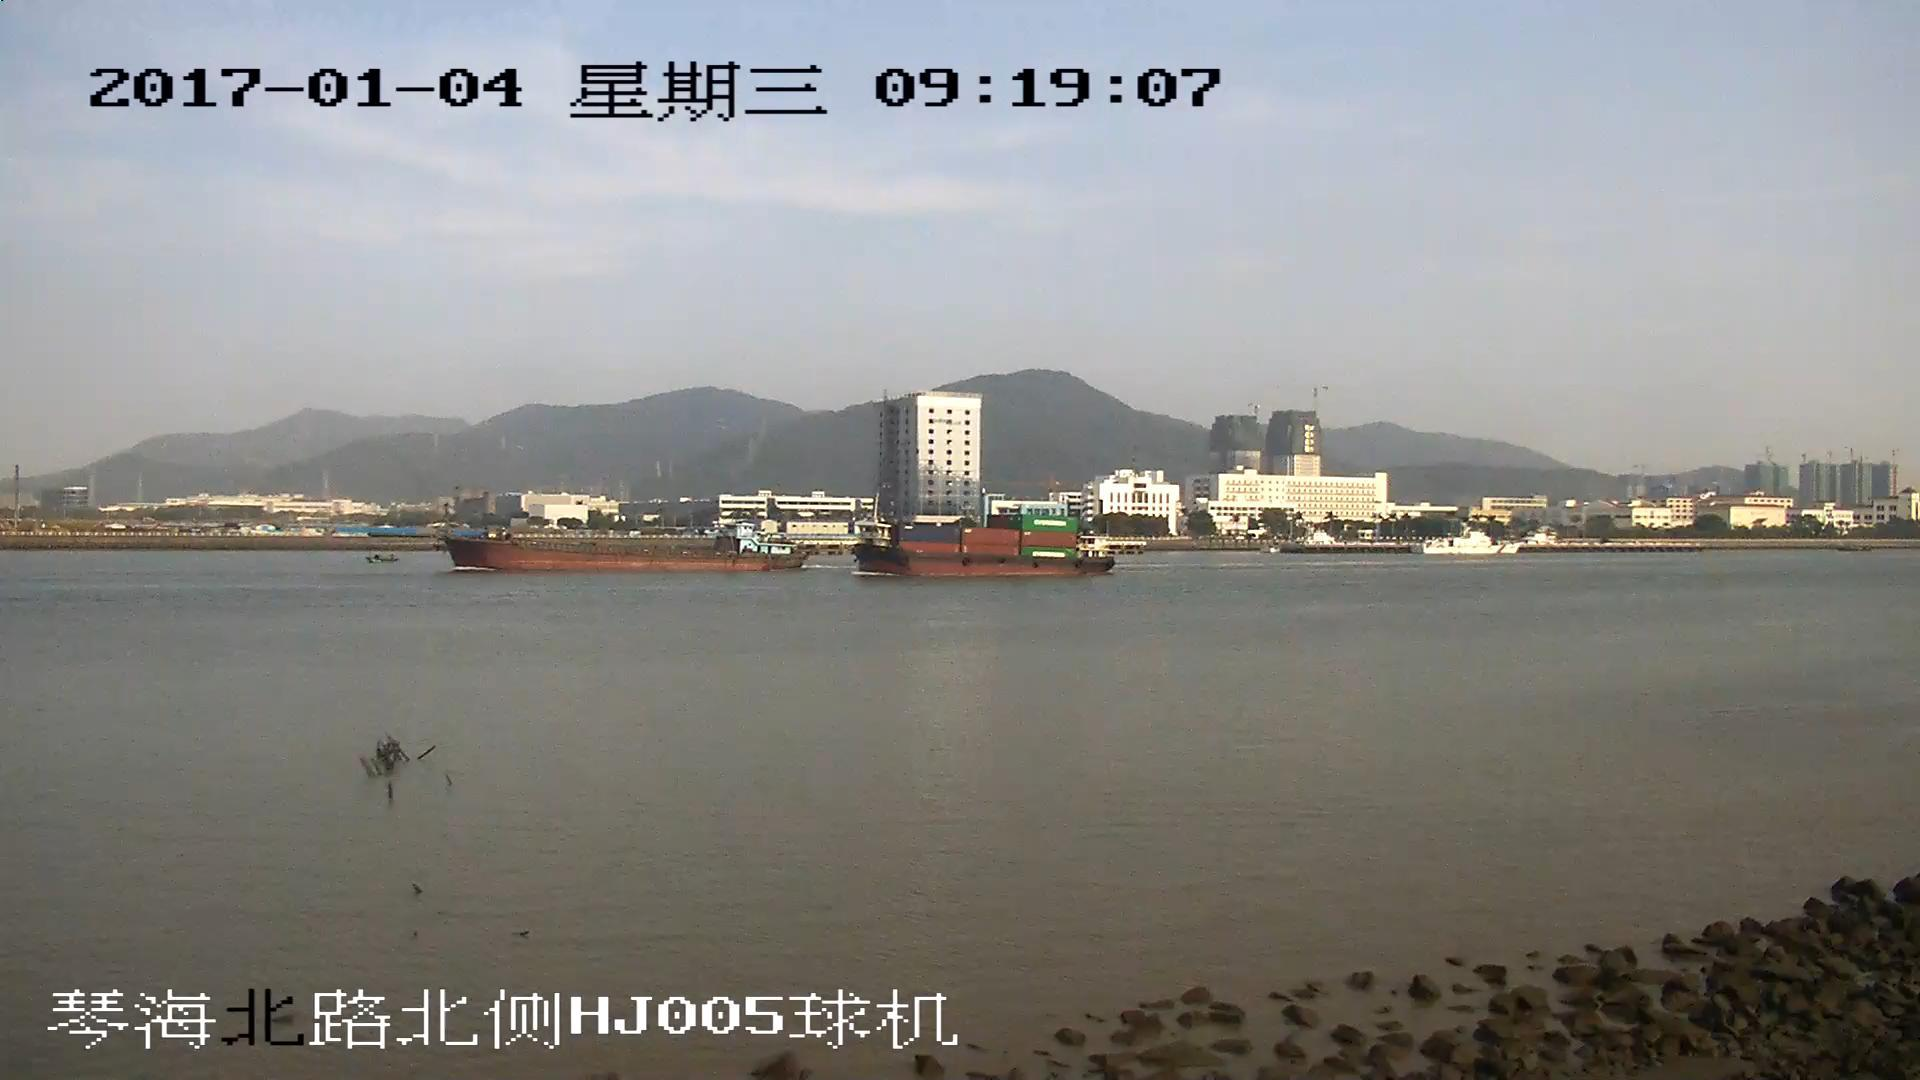Ship: (438, 520, 804, 571), (855, 513, 1116, 576)
